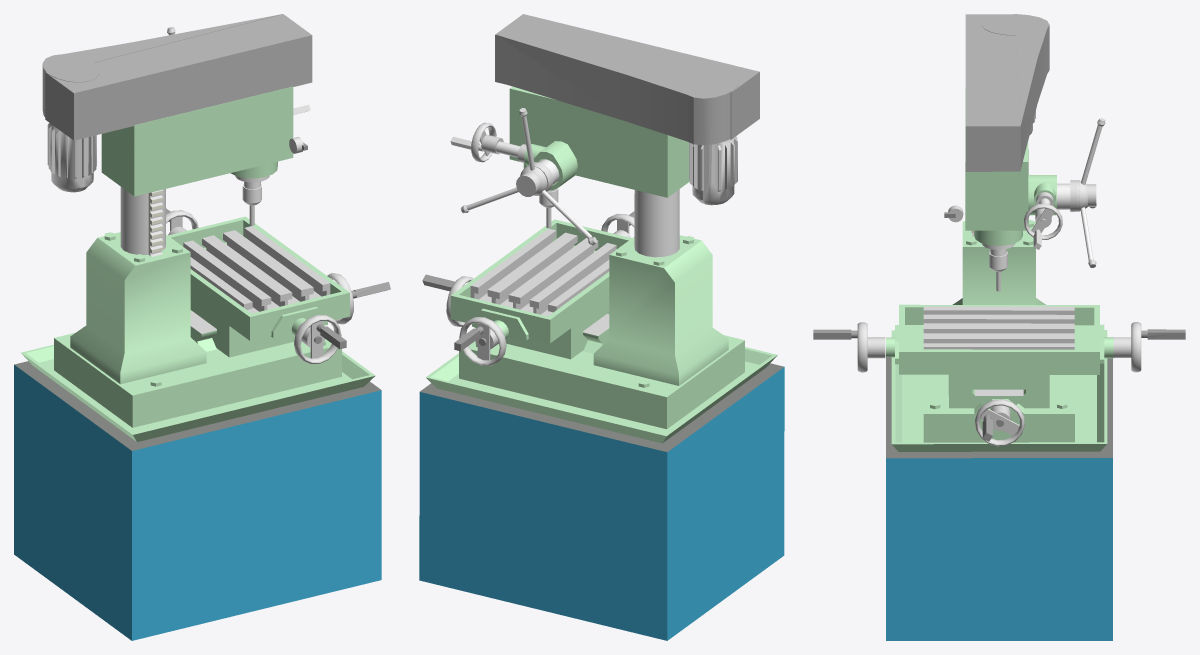
Rendered from drill.glb.
The picture shows the model from 3 angles, left to right: view 1: azimuth 30°, elevation 25°; view 2: azimuth 150°, elevation 25°; view 3: azimuth 270°, elevation 25°; orthographic projection. The views are drawn at different scales.
Visible parts, largest first — view 1: Shape_IndexedFaceSet.002, Shape_IndexedFaceSet.014, Shape_IndexedFaceSet.031, Shape_IndexedFaceSet.029, Shape_IndexedFaceSet.007, Shape_IndexedFaceSet.008, Shape_IndexedFaceSet.015, Shape_IndexedFaceSet.001, Shape_IndexedFaceSet.030, Shape_IndexedFaceSet.018, Shape_IndexedFaceSet.009, Shape_IndexedFaceSet.003 (+3 smaller); view 2: Shape_IndexedFaceSet.002, Shape_IndexedFaceSet.014, Shape_IndexedFaceSet.031, Shape_IndexedFaceSet.029, Shape_IndexedFaceSet.007, Shape_IndexedFaceSet.008, Shape_IndexedFaceSet.015, Shape_IndexedFaceSet.001, Shape_IndexedFaceSet.018, Shape_IndexedFaceSet.030, Shape_IndexedFaceSet.009, Shape_IndexedFaceSet.005 (+3 smaller); view 3: Shape_IndexedFaceSet.002, Shape_IndexedFaceSet.031, Shape_IndexedFaceSet.014, Shape_IndexedFaceSet.008, Shape_IndexedFaceSet.015, Shape_IndexedFaceSet.007, Shape_IndexedFaceSet.029, Shape_IndexedFaceSet.001, Shape_IndexedFaceSet.009, Shape_IndexedFaceSet.010, Shape_IndexedFaceSet.003, Shape_IndexedFaceSet.005 (+4 smaller).
Boxes of the visible parts, <box> form: Shape_IndexedFaceSet.002: <box>14,365,381,640</box>; Shape_IndexedFaceSet.014: <box>54,232,341,427</box>; Shape_IndexedFaceSet.031: <box>42,14,312,140</box>; Shape_IndexedFaceSet.029: <box>101,86,293,196</box>; Shape_IndexedFaceSet.007: <box>183,226,330,313</box>; Shape_IndexedFaceSet.008: <box>168,216,350,340</box>; Shape_IndexedFaceSet.015: <box>21,344,375,441</box>; Shape_IndexedFaceSet.001: <box>14,361,381,450</box>; Shape_IndexedFaceSet.030: <box>47,123,96,192</box>; Shape_IndexedFaceSet.018: <box>120,187,165,254</box>; Shape_IndexedFaceSet.009: <box>190,298,294,357</box>; Shape_IndexedFaceSet.003: <box>294,315,341,364</box>; Shape_IndexedFaceSet.002: <box>419,367,784,640</box>; Shape_IndexedFaceSet.014: <box>459,235,744,429</box>; Shape_IndexedFaceSet.031: <box>495,14,759,145</box>; Shape_IndexedFaceSet.029: <box>509,86,689,197</box>; Shape_IndexedFaceSet.007: <box>470,228,616,316</box>; Shape_IndexedFaceSet.008: <box>450,219,631,343</box>; Shape_IndexedFaceSet.015: <box>426,347,777,443</box>; Shape_IndexedFaceSet.001: <box>420,363,783,452</box>; Shape_IndexedFaceSet.018: <box>634,189,679,257</box>; Shape_IndexedFaceSet.030: <box>689,136,737,205</box>; Shape_IndexedFaceSet.009: <box>505,300,609,359</box>; Shape_IndexedFaceSet.005: <box>459,317,506,365</box>; Shape_IndexedFaceSet.002: <box>886,458,1112,640</box>; Shape_IndexedFaceSet.031: <box>965,14,1049,171</box>; Shape_IndexedFaceSet.014: <box>923,219,1074,442</box>; Shape_IndexedFaceSet.008: <box>886,304,1114,374</box>; Shape_IndexedFaceSet.015: <box>891,330,1107,451</box>; Shape_IndexedFaceSet.007: <box>923,306,1074,349</box>; Shape_IndexedFaceSet.029: <box>965,88,1028,230</box>; Shape_IndexedFaceSet.001: <box>886,357,1112,458</box>; Shape_IndexedFaceSet.009: <box>948,374,1049,408</box>; Shape_IndexedFaceSet.010: <box>975,399,1024,446</box>; Shape_IndexedFaceSet.003: <box>857,322,885,372</box>; Shape_IndexedFaceSet.005: <box>1113,322,1141,372</box>.
Bounding box in the file's own units: 14.36 × 21.97 × 14.76.
